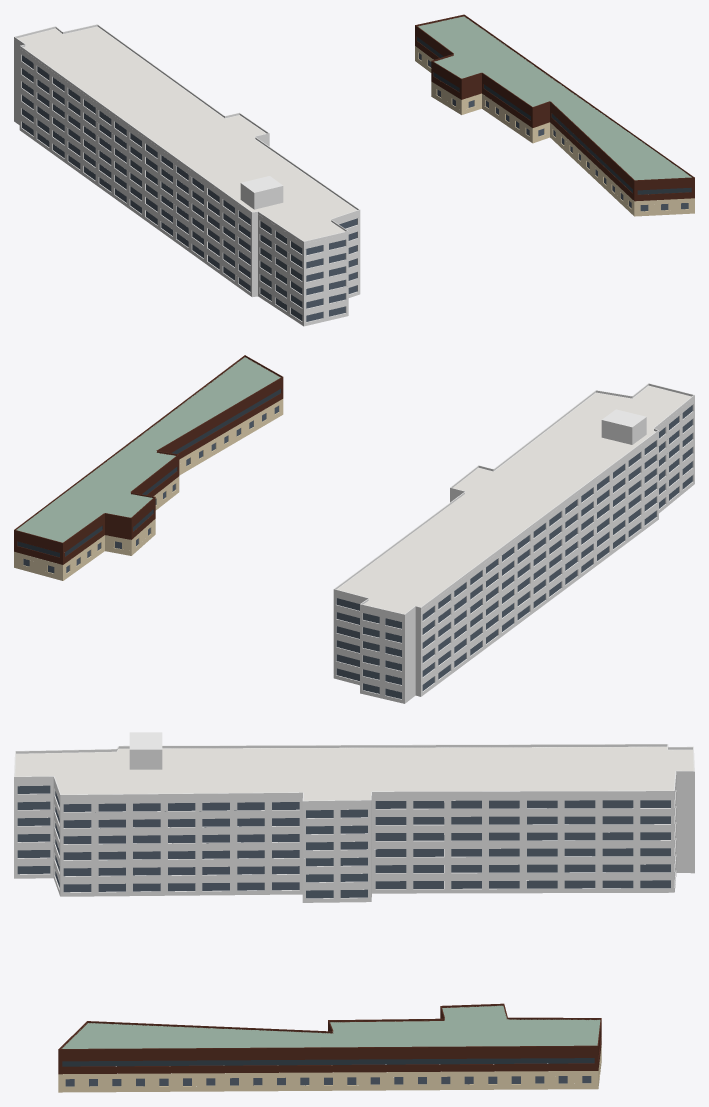
File: hyundai_hs.glb
3 views of the same model, one above another, from view 1: azimuth 30°, elevation 25°; view 2: azimuth 150°, elevation 25°; view 3: azimuth 270°, elevation 25° (orthographic). The views are drawn at different scales.
Parts seen in each view (by area): view 1: hyundai_hs; view 2: hyundai_hs; view 3: hyundai_hs.
Part boxes in pixels (box(x1,y1,x2,y2)): hyundai_hs: box(14, 14, 694, 326); hyundai_hs: box(14, 355, 694, 703); hyundai_hs: box(14, 732, 694, 1092).
Size of the model in its own units: 116 by 26 by 135.
